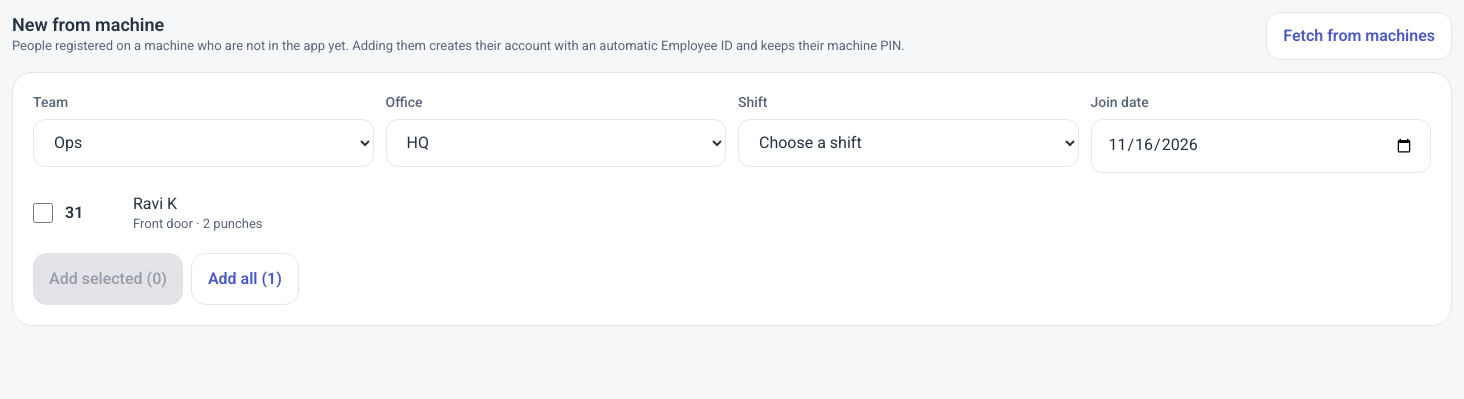
Test: New from machine (screen) › a failed fetch request is reported
Click the button "Fetch from machines" at (1359, 36), box [1266, 12, 1452, 60]
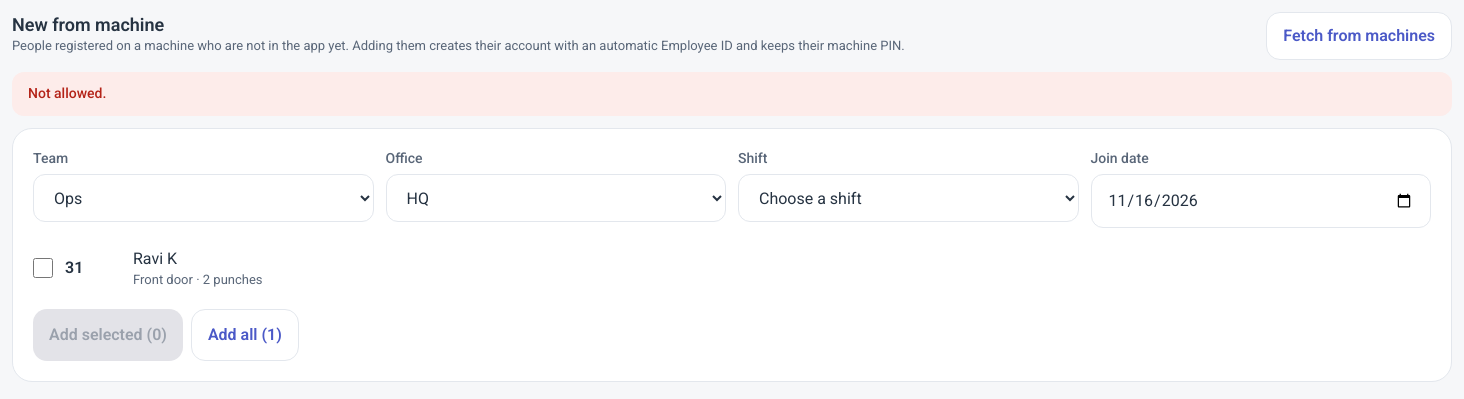
Now the text "Not allowed." is shown, box [12, 72, 1452, 116]
